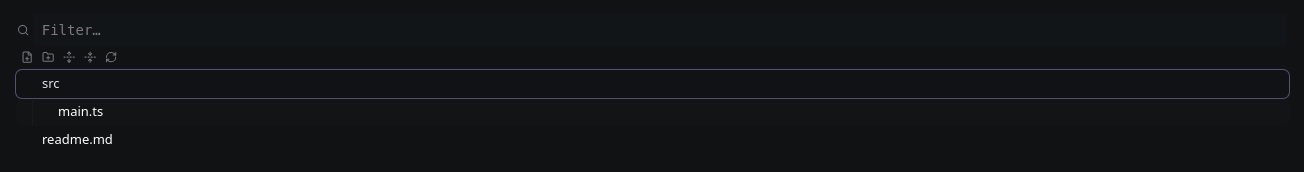
it: DockFileTree › filters files by inline query
Expected: the text "readme.md" is shown, [42,130,113,148]
Type "readme" into the search field with placeholder "Filter…" at x=660, y=31, box [33,14,1287,47]
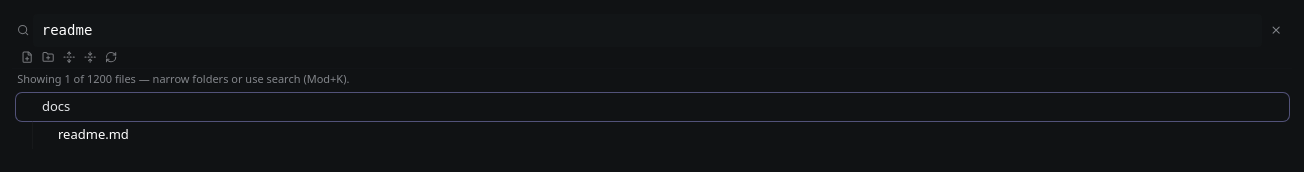
Expected: the text "readme.md" is shown, [58,125,129,143]
Now the list item "main.ts" is gone
